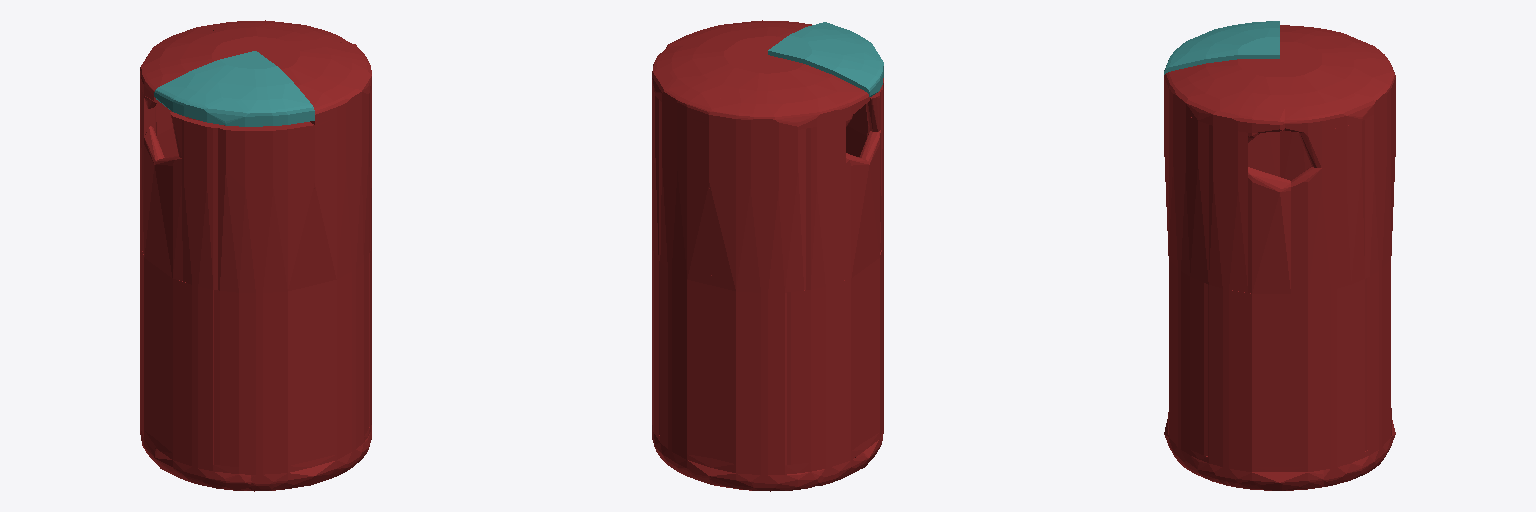
robot.urdf — root:
<robot name="root">
  <link name="bottle_body">
    <inertial>
      <origin xyz="0 0 0" rpy="0 0 0"/>
    </inertial>
    <mass value="1.00E-02"/>
    <visual>
      <origin xyz="0 0 0" rpy="0 0 0"/>
      <geometry>
        <mesh filename="core-bottle-200b3f3d859c8677ad5067eac75a07f7-coacd_convex_piece_17.obj" scale="1.0000E-01 1.0000E-01 1.0000E-01"/>
      </geometry>
      <material name="">
        <color rgba="6.00E-01 2.00E-01 2.00E-01 1"/>
      </material>
    </visual>
    <collision>
      <origin xyz="0 0 0" rpy="0 0 0"/>
      <geometry>
        <mesh filename="core-bottle-200b3f3d859c8677ad5067eac75a07f7-coacd_convex_piece_17.obj" scale="1.0000E-01 1.0000E-01 1.0000E-01"/>
      </geometry>
    </collision>
    <visual>
      <origin xyz="0 0 0" rpy="0 0 0"/>
      <geometry>
        <mesh filename="core-bottle-200b3f3d859c8677ad5067eac75a07f7-coacd_convex_piece_0.obj" scale="1.0000E-01 1.0000E-01 1.0000E-01"/>
      </geometry>
      <material name="">
        <color rgba="6.00E-01 2.00E-01 2.00E-01 1"/>
      </material>
    </visual>
    <collision>
      <origin xyz="0 0 0" rpy="0 0 0"/>
      <geometry>
        <mesh filename="core-bottle-200b3f3d859c8677ad5067eac75a07f7-coacd_convex_piece_0.obj" scale="1.0000E-01 1.0000E-01 1.0000E-01"/>
      </geometry>
    </collision>
    <visual>
      <origin xyz="0 0 0" rpy="0 0 0"/>
      <geometry>
        <mesh filename="core-bottle-200b3f3d859c8677ad5067eac75a07f7-coacd_convex_piece_36.obj" scale="1.0000E-01 1.0000E-01 1.0000E-01"/>
      </geometry>
      <material name="">
        <color rgba="6.00E-01 2.00E-01 2.00E-01 1"/>
      </material>
    </visual>
    <collision>
      <origin xyz="0 0 0" rpy="0 0 0"/>
      <geometry>
        <mesh filename="core-bottle-200b3f3d859c8677ad5067eac75a07f7-coacd_convex_piece_36.obj" scale="1.0000E-01 1.0000E-01 1.0000E-01"/>
      </geometry>
    </collision>
    <visual>
      <origin xyz="0 0 0" rpy="0 0 0"/>
      <geometry>
        <mesh filename="core-bottle-200b3f3d859c8677ad5067eac75a07f7-coacd_convex_piece_20.obj" scale="1.0000E-01 1.0000E-01 1.0000E-01"/>
      </geometry>
      <material name="">
        <color rgba="6.00E-01 2.00E-01 2.00E-01 1"/>
      </material>
    </visual>
    <collision>
      <origin xyz="0 0 0" rpy="0 0 0"/>
      <geometry>
        <mesh filename="core-bottle-200b3f3d859c8677ad5067eac75a07f7-coacd_convex_piece_20.obj" scale="1.0000E-01 1.0000E-01 1.0000E-01"/>
      </geometry>
    </collision>
    <visual>
      <origin xyz="0 0 0" rpy="0 0 0"/>
      <geometry>
        <mesh filename="core-bottle-200b3f3d859c8677ad5067eac75a07f7-coacd_convex_piece_34.obj" scale="1.0000E-01 1.0000E-01 1.0000E-01"/>
      </geometry>
      <material name="">
        <color rgba="6.00E-01 2.00E-01 2.00E-01 1"/>
      </material>
    </visual>
    <collision>
      <origin xyz="0 0 0" rpy="0 0 0"/>
      <geometry>
        <mesh filename="core-bottle-200b3f3d859c8677ad5067eac75a07f7-coacd_convex_piece_34.obj" scale="1.0000E-01 1.0000E-01 1.0000E-01"/>
      </geometry>
    </collision>
    <visual>
      <origin xyz="0 0 0" rpy="0 0 0"/>
      <geometry>
        <mesh filename="core-bottle-200b3f3d859c8677ad5067eac75a07f7-coacd_convex_piece_33.obj" scale="1.0000E-01 1.0000E-01 1.0000E-01"/>
      </geometry>
      <material name="">
        <color rgba="6.00E-01 2.00E-01 2.00E-01 1"/>
      </material>
    </visual>
    <collision>
      <origin xyz="0 0 0" rpy="0 0 0"/>
      <geometry>
        <mesh filename="core-bottle-200b3f3d859c8677ad5067eac75a07f7-coacd_convex_piece_33.obj" scale="1.0000E-01 1.0000E-01 1.0000E-01"/>
      </geometry>
    </collision>
    <visual>
      <origin xyz="0 0 0" rpy="0 0 0"/>
      <geometry>
        <mesh filename="core-bottle-200b3f3d859c8677ad5067eac75a07f7-coacd_convex_piece_21.obj" scale="1.0000E-01 1.0000E-01 1.0000E-01"/>
      </geometry>
      <material name="">
        <color rgba="6.00E-01 2.00E-01 2.00E-01 1"/>
      </material>
    </visual>
    <collision>
      <origin xyz="0 0 0" rpy="0 0 0"/>
      <geometry>
        <mesh filename="core-bottle-200b3f3d859c8677ad5067eac75a07f7-coacd_convex_piece_21.obj" scale="1.0000E-01 1.0000E-01 1.0000E-01"/>
      </geometry>
    </collision>
    <visual>
      <origin xyz="0 0 0" rpy="0 0 0"/>
      <geometry>
        <mesh filename="core-bottle-200b3f3d859c8677ad5067eac75a07f7-coacd_convex_piece_15.obj" scale="1.0000E-01 1.0000E-01 1.0000E-01"/>
      </geometry>
      <material name="">
        <color rgba="6.00E-01 2.00E-01 2.00E-01 1"/>
      </material>
    </visual>
    <collision>
      <origin xyz="0 0 0" rpy="0 0 0"/>
      <geometry>
        <mesh filename="core-bottle-200b3f3d859c8677ad5067eac75a07f7-coacd_convex_piece_15.obj" scale="1.0000E-01 1.0000E-01 1.0000E-01"/>
      </geometry>
    </collision>
    <visual>
      <origin xyz="0 0 0" rpy="0 0 0"/>
      <geometry>
        <mesh filename="core-bottle-200b3f3d859c8677ad5067eac75a07f7-coacd_convex_piece_24.obj" scale="1.0000E-01 1.0000E-01 1.0000E-01"/>
      </geometry>
      <material name="">
        <color rgba="6.00E-01 2.00E-01 2.00E-01 1"/>
      </material>
    </visual>
    <collision>
      <origin xyz="0 0 0" rpy="0 0 0"/>
      <geometry>
        <mesh filename="core-bottle-200b3f3d859c8677ad5067eac75a07f7-coacd_convex_piece_24.obj" scale="1.0000E-01 1.0000E-01 1.0000E-01"/>
      </geometry>
    </collision>
    <visual>
      <origin xyz="0 0 0" rpy="0 0 0"/>
      <geometry>
        <mesh filename="core-bottle-200b3f3d859c8677ad5067eac75a07f7-coacd_convex_piece_14.obj" scale="1.0000E-01 1.0000E-01 1.0000E-01"/>
      </geometry>
      <material name="">
        <color rgba="6.00E-01 2.00E-01 2.00E-01 1"/>
      </material>
    </visual>
    <collision>
      <origin xyz="0 0 0" rpy="0 0 0"/>
      <geometry>
        <mesh filename="core-bottle-200b3f3d859c8677ad5067eac75a07f7-coacd_convex_piece_14.obj" scale="1.0000E-01 1.0000E-01 1.0000E-01"/>
      </geometry>
    </collision>
    <visual>
      <origin xyz="0 0 0" rpy="0 0 0"/>
      <geometry>
        <mesh filename="core-bottle-200b3f3d859c8677ad5067eac75a07f7-coacd_convex_piece_30.obj" scale="1.0000E-01 1.0000E-01 1.0000E-01"/>
      </geometry>
      <material name="">
        <color rgba="6.00E-01 2.00E-01 2.00E-01 1"/>
      </material>
    </visual>
    <collision>
      <origin xyz="0 0 0" rpy="0 0 0"/>
      <geometry>
        <mesh filename="core-bottle-200b3f3d859c8677ad5067eac75a07f7-coacd_convex_piece_30.obj" scale="1.0000E-01 1.0000E-01 1.0000E-01"/>
      </geometry>
    </collision>
    <visual>
      <origin xyz="0 0 0" rpy="0 0 0"/>
      <geometry>
        <mesh filename="core-bottle-200b3f3d859c8677ad5067eac75a07f7-coacd_convex_piece_29.obj" scale="1.0000E-01 1.0000E-01 1.0000E-01"/>
      </geometry>
      <material name="">
        <color rgba="6.00E-01 2.00E-01 2.00E-01 1"/>
      </material>
    </visual>
    <collision>
      <origin xyz="0 0 0" rpy="0 0 0"/>
      <geometry>
        <mesh filename="core-bottle-200b3f3d859c8677ad5067eac75a07f7-coacd_convex_piece_29.obj" scale="1.0000E-01 1.0000E-01 1.0000E-01"/>
      </geometry>
    </collision>
    <visual>
      <origin xyz="0 0 0" rpy="0 0 0"/>
      <geometry>
        <mesh filename="core-bottle-200b3f3d859c8677ad5067eac75a07f7-coacd_convex_piece_26.obj" scale="1.0000E-01 1.0000E-01 1.0000E-01"/>
      </geometry>
      <material name="">
        <color rgba="6.00E-01 2.00E-01 2.00E-01 1"/>
      </material>
    </visual>
    <collision>
      <origin xyz="0 0 0" rpy="0 0 0"/>
      <geometry>
        <mesh filename="core-bottle-200b3f3d859c8677ad5067eac75a07f7-coacd_convex_piece_26.obj" scale="1.0000E-01 1.0000E-01 1.0000E-01"/>
      </geometry>
    </collision>
    <visual>
      <origin xyz="0 0 0" rpy="0 0 0"/>
      <geometry>
        <mesh filename="core-bottle-200b3f3d859c8677ad5067eac75a07f7-coacd_convex_piece_22.obj" scale="1.0000E-01 1.0000E-01 1.0000E-01"/>
      </geometry>
      <material name="">
        <color rgba="6.00E-01 2.00E-01 2.00E-01 1"/>
      </material>
    </visual>
    <collision>
      <origin xyz="0 0 0" rpy="0 0 0"/>
      <geometry>
        <mesh filename="core-bottle-200b3f3d859c8677ad5067eac75a07f7-coacd_convex_piece_22.obj" scale="1.0000E-01 1.0000E-01 1.0000E-01"/>
      </geometry>
    </collision>
    <visual>
      <origin xyz="0 0 0" rpy="0 0 0"/>
      <geometry>
        <mesh filename="core-bottle-200b3f3d859c8677ad5067eac75a07f7-coacd_convex_piece_18.obj" scale="1.0000E-01 1.0000E-01 1.0000E-01"/>
      </geometry>
      <material name="">
        <color rgba="6.00E-01 2.00E-01 2.00E-01 1"/>
      </material>
    </visual>
    <collision>
      <origin xyz="0 0 0" rpy="0 0 0"/>
      <geometry>
        <mesh filename="core-bottle-200b3f3d859c8677ad5067eac75a07f7-coacd_convex_piece_18.obj" scale="1.0000E-01 1.0000E-01 1.0000E-01"/>
      </geometry>
    </collision>
    <visual>
      <origin xyz="0 0 0" rpy="0 0 0"/>
      <geometry>
        <mesh filename="core-bottle-200b3f3d859c8677ad5067eac75a07f7-coacd_convex_piece_28.obj" scale="1.0000E-01 1.0000E-01 1.0000E-01"/>
      </geometry>
      <material name="">
        <color rgba="6.00E-01 2.00E-01 2.00E-01 1"/>
      </material>
    </visual>
    <collision>
      <origin xyz="0 0 0" rpy="0 0 0"/>
      <geometry>
        <mesh filename="core-bottle-200b3f3d859c8677ad5067eac75a07f7-coacd_convex_piece_28.obj" scale="1.0000E-01 1.0000E-01 1.0000E-01"/>
      </geometry>
    </collision>
    <visual>
      <origin xyz="0 0 0" rpy="0 0 0"/>
      <geometry>
        <mesh filename="core-bottle-200b3f3d859c8677ad5067eac75a07f7-coacd_convex_piece_25.obj" scale="1.0000E-01 1.0000E-01 1.0000E-01"/>
      </geometry>
      <material name="">
        <color rgba="6.00E-01 2.00E-01 2.00E-01 1"/>
      </material>
    </visual>
    <collision>
      <origin xyz="0 0 0" rpy="0 0 0"/>
      <geometry>
        <mesh filename="core-bottle-200b3f3d859c8677ad5067eac75a07f7-coacd_convex_piece_25.obj" scale="1.0000E-01 1.0000E-01 1.0000E-01"/>
      </geometry>
    </collision>
    <visual>
      <origin xyz="0 0 0" rpy="0 0 0"/>
      <geometry>
        <mesh filename="core-bottle-200b3f3d859c8677ad5067eac75a07f7-coacd_convex_piece_32.obj" scale="1.0000E-01 1.0000E-01 1.0000E-01"/>
      </geometry>
      <material name="">
        <color rgba="6.00E-01 2.00E-01 2.00E-01 1"/>
      </material>
    </visual>
    <collision>
      <origin xyz="0 0 0" rpy="0 0 0"/>
      <geometry>
        <mesh filename="core-bottle-200b3f3d859c8677ad5067eac75a07f7-coacd_convex_piece_32.obj" scale="1.0000E-01 1.0000E-01 1.0000E-01"/>
      </geometry>
    </collision>
    <visual>
      <origin xyz="0 0 0" rpy="0 0 0"/>
      <geometry>
        <mesh filename="core-bottle-200b3f3d859c8677ad5067eac75a07f7-coacd_convex_piece_4.obj" scale="1.0000E-01 1.0000E-01 1.0000E-01"/>
      </geometry>
      <material name="">
        <color rgba="6.00E-01 2.00E-01 2.00E-01 1"/>
      </material>
    </visual>
    <collision>
      <origin xyz="0 0 0" rpy="0 0 0"/>
      <geometry>
        <mesh filename="core-bottle-200b3f3d859c8677ad5067eac75a07f7-coacd_convex_piece_4.obj" scale="1.0000E-01 1.0000E-01 1.0000E-01"/>
      </geometry>
    </collision>
    <visual>
      <origin xyz="0 0 0" rpy="0 0 0"/>
      <geometry>
        <mesh filename="core-bottle-200b3f3d859c8677ad5067eac75a07f7-coacd_convex_piece_13.obj" scale="1.0000E-01 1.0000E-01 1.0000E-01"/>
      </geometry>
      <material name="">
        <color rgba="6.00E-01 2.00E-01 2.00E-01 1"/>
      </material>
    </visual>
    <collision>
      <origin xyz="0 0 0" rpy="0 0 0"/>
      <geometry>
        <mesh filename="core-bottle-200b3f3d859c8677ad5067eac75a07f7-coacd_convex_piece_13.obj" scale="1.0000E-01 1.0000E-01 1.0000E-01"/>
      </geometry>
    </collision>
    <visual>
      <origin xyz="0 0 0" rpy="0 0 0"/>
      <geometry>
        <mesh filename="core-bottle-200b3f3d859c8677ad5067eac75a07f7-coacd_convex_piece_9.obj" scale="1.0000E-01 1.0000E-01 1.0000E-01"/>
      </geometry>
      <material name="">
        <color rgba="6.00E-01 2.00E-01 2.00E-01 1"/>
      </material>
    </visual>
    <collision>
      <origin xyz="0 0 0" rpy="0 0 0"/>
      <geometry>
        <mesh filename="core-bottle-200b3f3d859c8677ad5067eac75a07f7-coacd_convex_piece_9.obj" scale="1.0000E-01 1.0000E-01 1.0000E-01"/>
      </geometry>
    </collision>
    <visual>
      <origin xyz="0 0 0" rpy="0 0 0"/>
      <geometry>
        <mesh filename="core-bottle-200b3f3d859c8677ad5067eac75a07f7-coacd_convex_piece_11.obj" scale="1.0000E-01 1.0000E-01 1.0000E-01"/>
      </geometry>
      <material name="">
        <color rgba="6.00E-01 2.00E-01 2.00E-01 1"/>
      </material>
    </visual>
    <collision>
      <origin xyz="0 0 0" rpy="0 0 0"/>
      <geometry>
        <mesh filename="core-bottle-200b3f3d859c8677ad5067eac75a07f7-coacd_convex_piece_11.obj" scale="1.0000E-01 1.0000E-01 1.0000E-01"/>
      </geometry>
    </collision>
    <visual>
      <origin xyz="0 0 0" rpy="0 0 0"/>
      <geometry>
        <mesh filename="core-bottle-200b3f3d859c8677ad5067eac75a07f7-coacd_convex_piece_6.obj" scale="1.0000E-01 1.0000E-01 1.0000E-01"/>
      </geometry>
      <material name="">
        <color rgba="6.00E-01 2.00E-01 2.00E-01 1"/>
      </material>
    </visual>
    <collision>
      <origin xyz="0 0 0" rpy="0 0 0"/>
      <geometry>
        <mesh filename="core-bottle-200b3f3d859c8677ad5067eac75a07f7-coacd_convex_piece_6.obj" scale="1.0000E-01 1.0000E-01 1.0000E-01"/>
      </geometry>
    </collision>
    <visual>
      <origin xyz="0 0 0" rpy="0 0 0"/>
      <geometry>
        <mesh filename="core-bottle-200b3f3d859c8677ad5067eac75a07f7-coacd_convex_piece_23.obj" scale="1.0000E-01 1.0000E-01 1.0000E-01"/>
      </geometry>
      <material name="">
        <color rgba="6.00E-01 2.00E-01 2.00E-01 1"/>
      </material>
    </visual>
    <collision>
      <origin xyz="0 0 0" rpy="0 0 0"/>
      <geometry>
        <mesh filename="core-bottle-200b3f3d859c8677ad5067eac75a07f7-coacd_convex_piece_23.obj" scale="1.0000E-01 1.0000E-01 1.0000E-01"/>
      </geometry>
    </collision>
    <visual>
      <origin xyz="0 0 0" rpy="0 0 0"/>
      <geometry>
        <mesh filename="core-bottle-200b3f3d859c8677ad5067eac75a07f7-coacd_convex_piece_3.obj" scale="1.0000E-01 1.0000E-01 1.0000E-01"/>
      </geometry>
      <material name="">
        <color rgba="6.00E-01 2.00E-01 2.00E-01 1"/>
      </material>
    </visual>
    <collision>
      <origin xyz="0 0 0" rpy="0 0 0"/>
      <geometry>
        <mesh filename="core-bottle-200b3f3d859c8677ad5067eac75a07f7-coacd_convex_piece_3.obj" scale="1.0000E-01 1.0000E-01 1.0000E-01"/>
      </geometry>
    </collision>
    <visual>
      <origin xyz="0 0 0" rpy="0 0 0"/>
      <geometry>
        <mesh filename="core-bottle-200b3f3d859c8677ad5067eac75a07f7-coacd_convex_piece_7.obj" scale="1.0000E-01 1.0000E-01 1.0000E-01"/>
      </geometry>
      <material name="">
        <color rgba="6.00E-01 2.00E-01 2.00E-01 1"/>
      </material>
    </visual>
    <collision>
      <origin xyz="0 0 0" rpy="0 0 0"/>
      <geometry>
        <mesh filename="core-bottle-200b3f3d859c8677ad5067eac75a07f7-coacd_convex_piece_7.obj" scale="1.0000E-01 1.0000E-01 1.0000E-01"/>
      </geometry>
    </collision>
    <visual>
      <origin xyz="0 0 0" rpy="0 0 0"/>
      <geometry>
        <mesh filename="core-bottle-200b3f3d859c8677ad5067eac75a07f7-coacd_convex_piece_1.obj" scale="1.0000E-01 1.0000E-01 1.0000E-01"/>
      </geometry>
      <material name="">
        <color rgba="6.00E-01 2.00E-01 2.00E-01 1"/>
      </material>
    </visual>
    <collision>
      <origin xyz="0 0 0" rpy="0 0 0"/>
      <geometry>
        <mesh filename="core-bottle-200b3f3d859c8677ad5067eac75a07f7-coacd_convex_piece_1.obj" scale="1.0000E-01 1.0000E-01 1.0000E-01"/>
      </geometry>
    </collision>
    <visual>
      <origin xyz="0 0 0" rpy="0 0 0"/>
      <geometry>
        <mesh filename="core-bottle-200b3f3d859c8677ad5067eac75a07f7-coacd_convex_piece_35.obj" scale="1.0000E-01 1.0000E-01 1.0000E-01"/>
      </geometry>
      <material name="">
        <color rgba="6.00E-01 2.00E-01 2.00E-01 1"/>
      </material>
    </visual>
    <collision>
      <origin xyz="0 0 0" rpy="0 0 0"/>
      <geometry>
        <mesh filename="core-bottle-200b3f3d859c8677ad5067eac75a07f7-coacd_convex_piece_35.obj" scale="1.0000E-01 1.0000E-01 1.0000E-01"/>
      </geometry>
    </collision>
    <visual>
      <origin xyz="0 0 0" rpy="0 0 0"/>
      <geometry>
        <mesh filename="core-bottle-200b3f3d859c8677ad5067eac75a07f7-coacd_convex_piece_19.obj" scale="1.0000E-01 1.0000E-01 1.0000E-01"/>
      </geometry>
      <material name="">
        <color rgba="6.00E-01 2.00E-01 2.00E-01 1"/>
      </material>
    </visual>
    <collision>
      <origin xyz="0 0 0" rpy="0 0 0"/>
      <geometry>
        <mesh filename="core-bottle-200b3f3d859c8677ad5067eac75a07f7-coacd_convex_piece_19.obj" scale="1.0000E-01 1.0000E-01 1.0000E-01"/>
      </geometry>
    </collision>
    <visual>
      <origin xyz="0 0 0" rpy="0 0 0"/>
      <geometry>
        <mesh filename="core-bottle-200b3f3d859c8677ad5067eac75a07f7-coacd_convex_piece_31.obj" scale="1.0000E-01 1.0000E-01 1.0000E-01"/>
      </geometry>
      <material name="">
        <color rgba="6.00E-01 2.00E-01 2.00E-01 1"/>
      </material>
    </visual>
    <collision>
      <origin xyz="0 0 0" rpy="0 0 0"/>
      <geometry>
        <mesh filename="core-bottle-200b3f3d859c8677ad5067eac75a07f7-coacd_convex_piece_31.obj" scale="1.0000E-01 1.0000E-01 1.0000E-01"/>
      </geometry>
    </collision>
    <visual>
      <origin xyz="0 0 0" rpy="0 0 0"/>
      <geometry>
        <mesh filename="core-bottle-200b3f3d859c8677ad5067eac75a07f7-coacd_convex_piece_10.obj" scale="1.0000E-01 1.0000E-01 1.0000E-01"/>
      </geometry>
      <material name="">
        <color rgba="6.00E-01 2.00E-01 2.00E-01 1"/>
      </material>
    </visual>
    <collision>
      <origin xyz="0 0 0" rpy="0 0 0"/>
      <geometry>
        <mesh filename="core-bottle-200b3f3d859c8677ad5067eac75a07f7-coacd_convex_piece_10.obj" scale="1.0000E-01 1.0000E-01 1.0000E-01"/>
      </geometry>
    </collision>
    <visual>
      <origin xyz="0 0 0" rpy="0 0 0"/>
      <geometry>
        <mesh filename="core-bottle-200b3f3d859c8677ad5067eac75a07f7-coacd_convex_piece_8.obj" scale="1.0000E-01 1.0000E-01 1.0000E-01"/>
      </geometry>
      <material name="">
        <color rgba="6.00E-01 2.00E-01 2.00E-01 1"/>
      </material>
    </visual>
    <collision>
      <origin xyz="0 0 0" rpy="0 0 0"/>
      <geometry>
        <mesh filename="core-bottle-200b3f3d859c8677ad5067eac75a07f7-coacd_convex_piece_8.obj" scale="1.0000E-01 1.0000E-01 1.0000E-01"/>
      </geometry>
    </collision>
    <visual>
      <origin xyz="0 0 0" rpy="0 0 0"/>
      <geometry>
        <mesh filename="core-bottle-200b3f3d859c8677ad5067eac75a07f7-coacd_convex_piece_12.obj" scale="1.0000E-01 1.0000E-01 1.0000E-01"/>
      </geometry>
      <material name="">
        <color rgba="6.00E-01 2.00E-01 2.00E-01 1"/>
      </material>
    </visual>
    <collision>
      <origin xyz="0 0 0" rpy="0 0 0"/>
      <geometry>
        <mesh filename="core-bottle-200b3f3d859c8677ad5067eac75a07f7-coacd_convex_piece_12.obj" scale="1.0000E-01 1.0000E-01 1.0000E-01"/>
      </geometry>
    </collision>
    <visual>
      <origin xyz="0 0 0" rpy="0 0 0"/>
      <geometry>
        <mesh filename="core-bottle-200b3f3d859c8677ad5067eac75a07f7-coacd_convex_piece_5.obj" scale="1.0000E-01 1.0000E-01 1.0000E-01"/>
      </geometry>
      <material name="">
        <color rgba="6.00E-01 2.00E-01 2.00E-01 1"/>
      </material>
    </visual>
    <collision>
      <origin xyz="0 0 0" rpy="0 0 0"/>
      <geometry>
        <mesh filename="core-bottle-200b3f3d859c8677ad5067eac75a07f7-coacd_convex_piece_5.obj" scale="1.0000E-01 1.0000E-01 1.0000E-01"/>
      </geometry>
    </collision>
    <visual>
      <origin xyz="0 0 0" rpy="0 0 0"/>
      <geometry>
        <mesh filename="core-bottle-200b3f3d859c8677ad5067eac75a07f7-coacd_convex_piece_16.obj" scale="1.0000E-01 1.0000E-01 1.0000E-01"/>
      </geometry>
      <material name="">
        <color rgba="6.00E-01 2.00E-01 2.00E-01 1"/>
      </material>
    </visual>
    <collision>
      <origin xyz="0 0 0" rpy="0 0 0"/>
      <geometry>
        <mesh filename="core-bottle-200b3f3d859c8677ad5067eac75a07f7-coacd_convex_piece_16.obj" scale="1.0000E-01 1.0000E-01 1.0000E-01"/>
      </geometry>
    </collision>
    <visual>
      <origin xyz="0 0 0" rpy="0 0 0"/>
      <geometry>
        <mesh filename="core-bottle-200b3f3d859c8677ad5067eac75a07f7-coacd_convex_piece_27.obj" scale="1.0000E-01 1.0000E-01 1.0000E-01"/>
      </geometry>
      <material name="">
        <color rgba="6.00E-01 2.00E-01 2.00E-01 1"/>
      </material>
    </visual>
    <collision>
      <origin xyz="0 0 0" rpy="0 0 0"/>
      <geometry>
        <mesh filename="core-bottle-200b3f3d859c8677ad5067eac75a07f7-coacd_convex_piece_27.obj" scale="1.0000E-01 1.0000E-01 1.0000E-01"/>
      </geometry>
    </collision>
  </link>
  <link name="bottle_cap">
    <origin xyz="0 0 0.002" rpy="0 0 0"/>
    <mass value="1.00E-02"/>
    <visual>
      <origin xyz="0 0 0.002" rpy="0 0 0"/>
      <geometry>
        <mesh filename="core-bottle-200b3f3d859c8677ad5067eac75a07f7-coacd_convex_piece_2.obj" scale="1.0000E-01 1.0000E-01 1.0000E-01"/>
      </geometry>
      <material name="">
        <color rgba="3.00E-01 6.00E-01 6.00E-01 1"/>
      </material>
    </visual>
    <collision>
      <origin xyz="0 0 0.002" rpy="0 0 0"/>
      <geometry>
        <mesh filename="core-bottle-200b3f3d859c8677ad5067eac75a07f7-coacd_convex_piece_2.obj" scale="1.0000E-01 1.0000E-01 1.0000E-01"/>
      </geometry>
    </collision>
  </link>
  <joint name="bottle_cap_joint" type="revolute">
    <origin xyz="0 0 0" rpy="0 0 0"/>
    <parent link="bottle_body"/>
    <child link="bottle_cap"/>
    <axis xyz="0 0 1"/>
    <limit lower="0.00" upper="6.28"/>
    <dynamics damping="0.05"/>
  </joint>
</robot>

--- Facts derived from the render (not from the file) ---
3 views of the same robot in one strip: view 1: azimuth 30°, elevation 25°; view 2: azimuth 150°, elevation 25°; view 3: azimuth 270°, elevation 25° (orthographic).
Robot: root — 2 links, 1 joints (1 revolute); root link bottle_body; default pose: all joints at 0.
Links seen in each view (by area): view 1: bottle_body, bottle_cap; view 2: bottle_body, bottle_cap; view 3: bottle_body, bottle_cap.
Boxes of the visible links, x1,y1,x2,y2 form: bottle_body: (140,20,371,491); bottle_cap: (154,51,314,126); bottle_body: (652,20,883,491); bottle_cap: (768,22,883,96); bottle_body: (1164,25,1395,490); bottle_cap: (1164,21,1279,74).
Size in the robot's own frame: 0.0954 by 0.0954 by 0.1775 metres.
37 mesh visuals loaded from 37 distinct referenced files (37 OBJ).